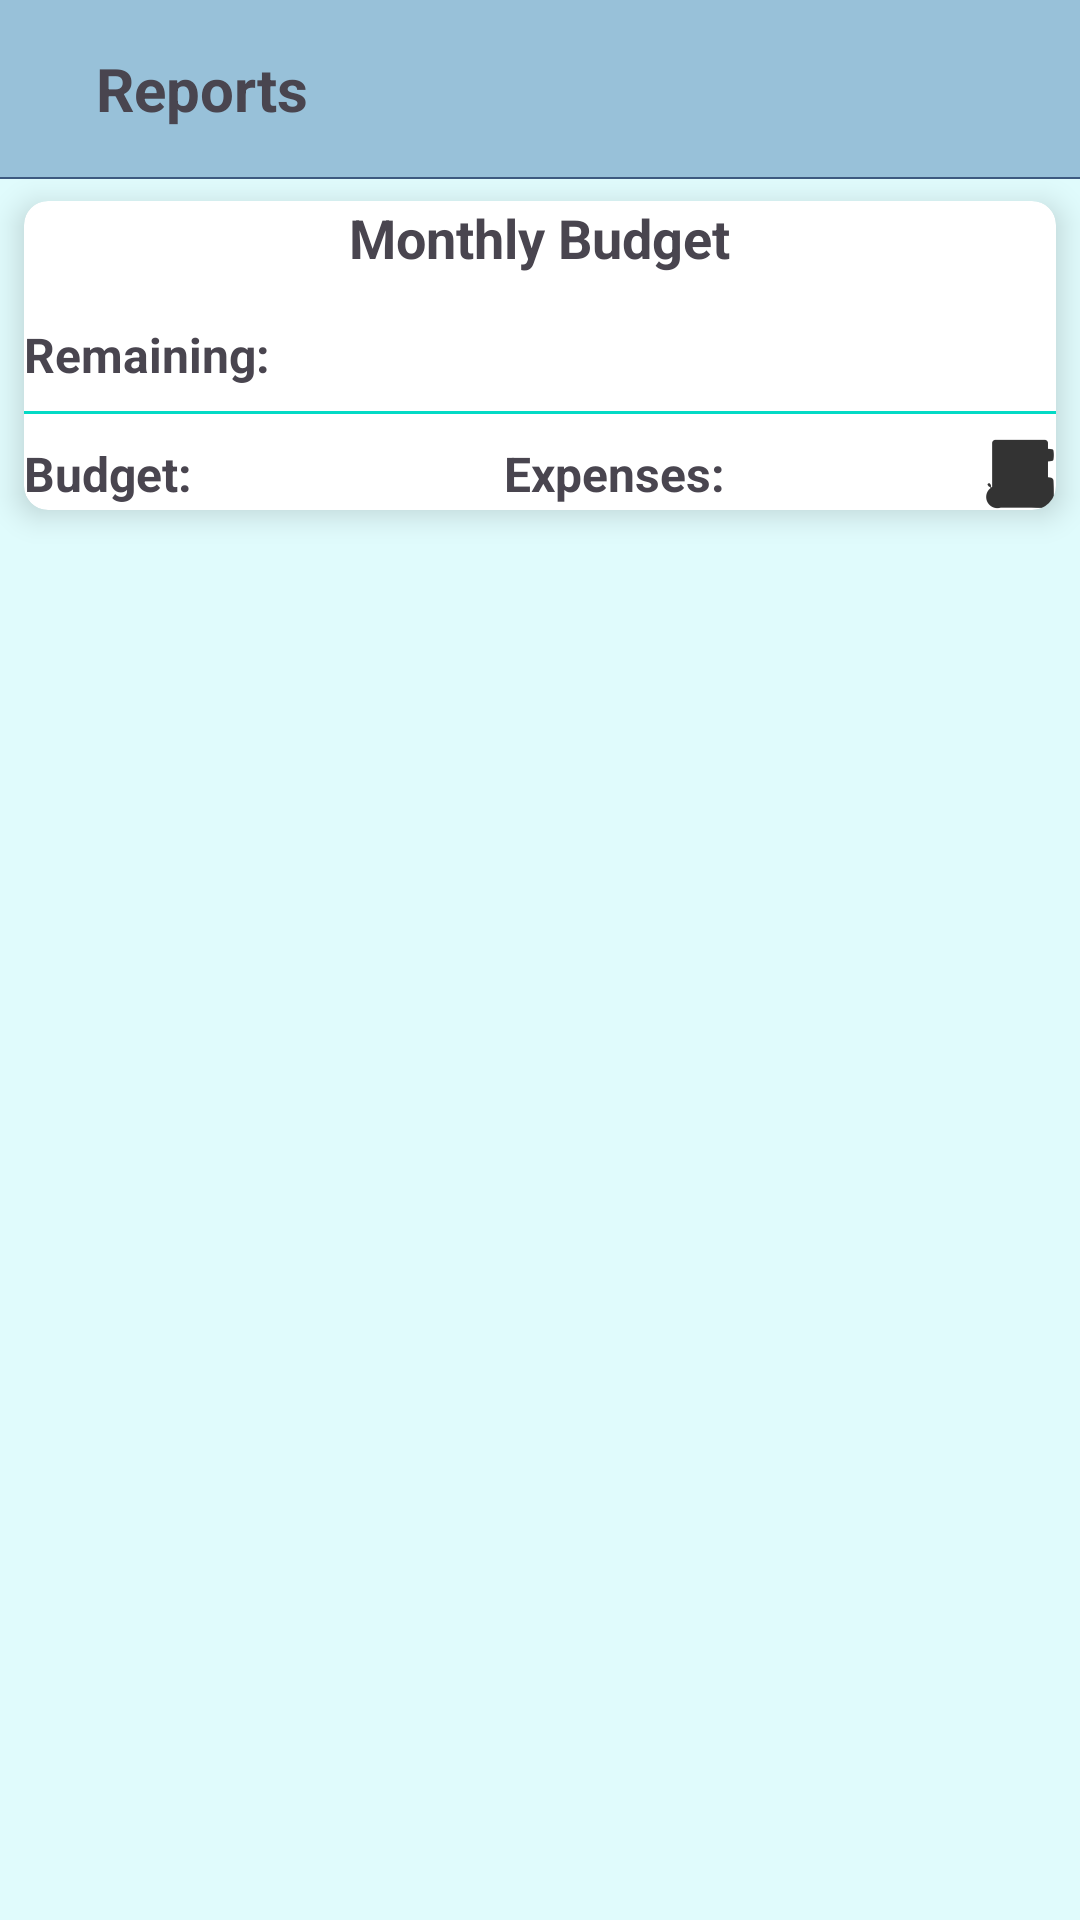

Point at icon controls on the screen. Image size 1080px×1920px, points as point (x, y).
budget: point (1020, 474)
